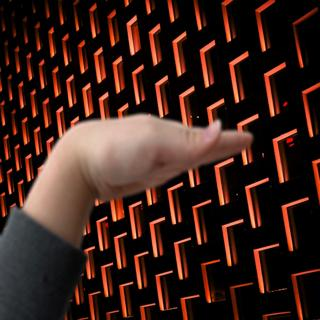Wait: (33, 105, 254, 214)
